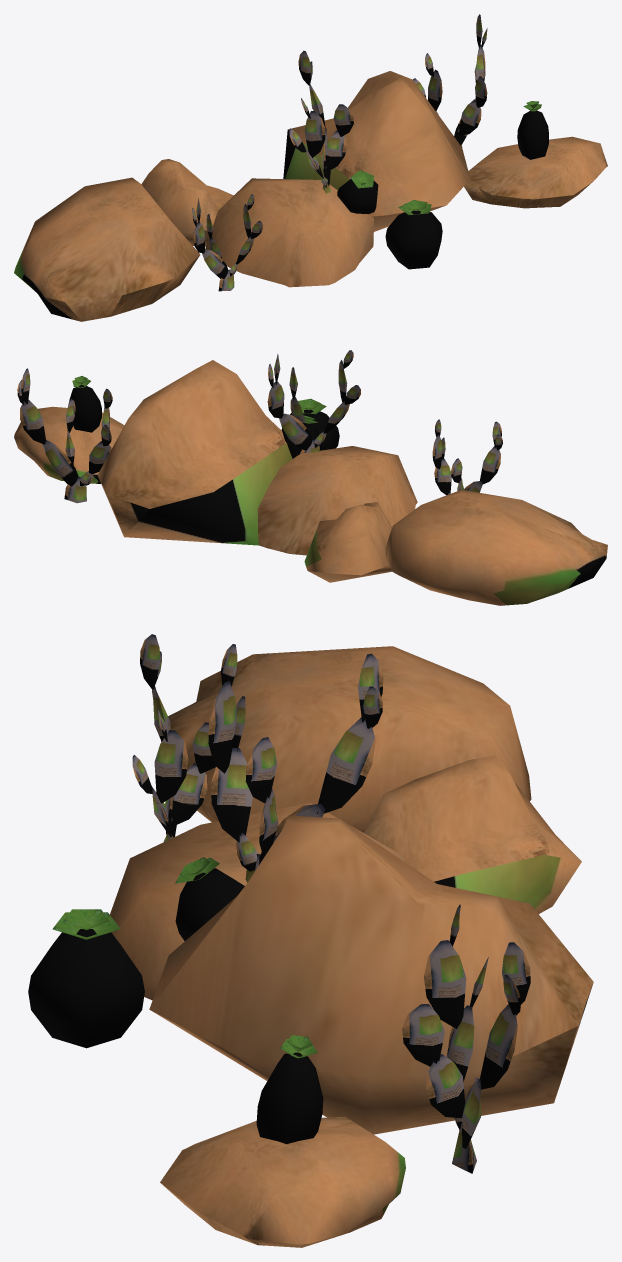
The model's file is rock_cacti_group_linear.fbx.
3 renders of one model, top to bottom at view 1: azimuth 30°, elevation 25°; view 2: azimuth 150°, elevation 25°; view 3: azimuth 270°, elevation 25°, orthographic. The views are drawn at different scales.
Parts seen in each view (by area): view 1: rock_4_High, rock_3_high, rock_one_high1, rock_2_high, rock_9_High, cactus, cactus2, cactus1, leaf27, leaf30, leaf18, leaf31 (+2 smaller); view 2: rock_3_high, rock_4_High, rock_one_high1, rock_9_High, rock_2_high, cactus2, leaf16, leaf13, leaf28, cactus, leaf1, leaf25 (+3 smaller); view 3: rock_3_high, rock_4_High, rock_2_high, rock_9_High, rock_one_high1, cactus, cactus2, leaf25, leaf15, cactus1, leaf26, leaf19 (+12 smaller).
Part boxes in pixels (x1=…): rock_4_High: x1=14, y1=177, x2=200, y2=321; rock_3_high: x1=283, y1=71, x2=470, y2=231; rock_one_high1: x1=205, y1=178, x2=374, y2=287; rock_2_high: x1=464, y1=136, x2=607, y2=208; rock_9_High: x1=141, y1=159, x2=233, y2=246; cactus: x1=385, y1=210, x2=442, y2=269; cactus2: x1=517, y1=110, x2=548, y2=159; cactus1: x1=337, y1=179, x2=378, y2=214; leaf27: x1=304, y1=111, x2=325, y2=157; leaf30: x1=325, y1=130, x2=346, y2=171; leaf18: x1=459, y1=100, x2=481, y2=135; leaf31: x1=333, y1=104, x2=353, y2=136; rock_3_high: x1=97, y1=360, x2=292, y2=545; rock_4_High: x1=385, y1=490, x2=607, y2=605; rock_one_high1: x1=257, y1=446, x2=417, y2=555; rock_9_High: x1=304, y1=502, x2=391, y2=582; rock_2_high: x1=14, y1=406, x2=124, y2=483; cactus2: x1=69, y1=385, x2=101, y2=432; leaf16: x1=42, y1=440, x2=78, y2=486; leaf13: x1=20, y1=399, x2=46, y2=444; leaf28: x1=279, y1=413, x2=312, y2=450; cactus: x1=281, y1=409, x2=339, y2=450; leaf1: x1=479, y1=446, x2=500, y2=484; leaf25: x1=267, y1=381, x2=284, y2=418; rock_3_high: x1=149, y1=815, x2=593, y2=1134; rock_4_High: x1=161, y1=646, x2=531, y2=832; rock_2_high: x1=160, y1=1116, x2=405, y2=1247; rock_9_High: x1=363, y1=755, x2=581, y2=913; rock_one_high1: x1=110, y1=802, x2=405, y2=1000; cactus: x1=28, y1=929, x2=144, y2=1048; cactus2: x1=256, y1=1052, x2=323, y2=1144; leaf25: x1=317, y1=717, x2=375, y2=813; leaf15: x1=424, y1=940, x2=466, y2=1028; cactus1: x1=175, y1=868, x2=244, y2=940; leaf26: x1=211, y1=748, x2=252, y2=842; leaf19: x1=402, y1=1004, x2=444, y2=1066.
Bounding box in the file's own units: 1877 × 546 × 806.
2 materials, 2 textured.
